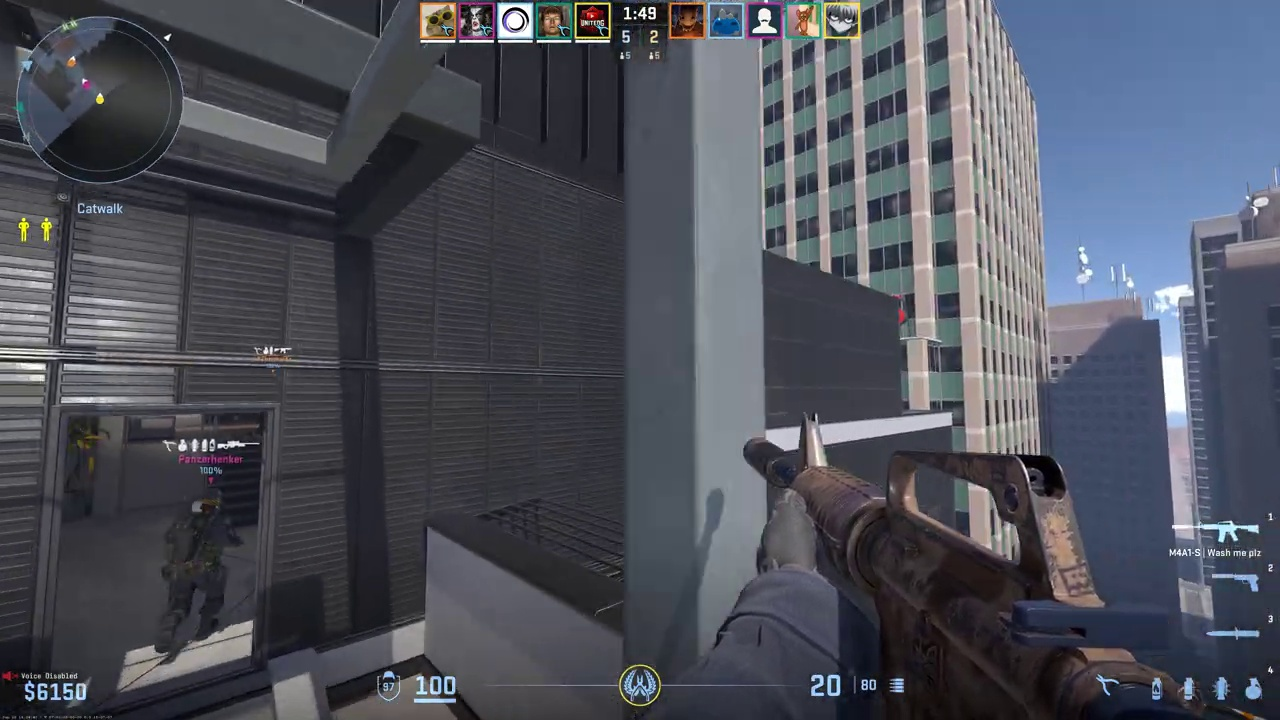CT: (160, 489, 234, 653)
